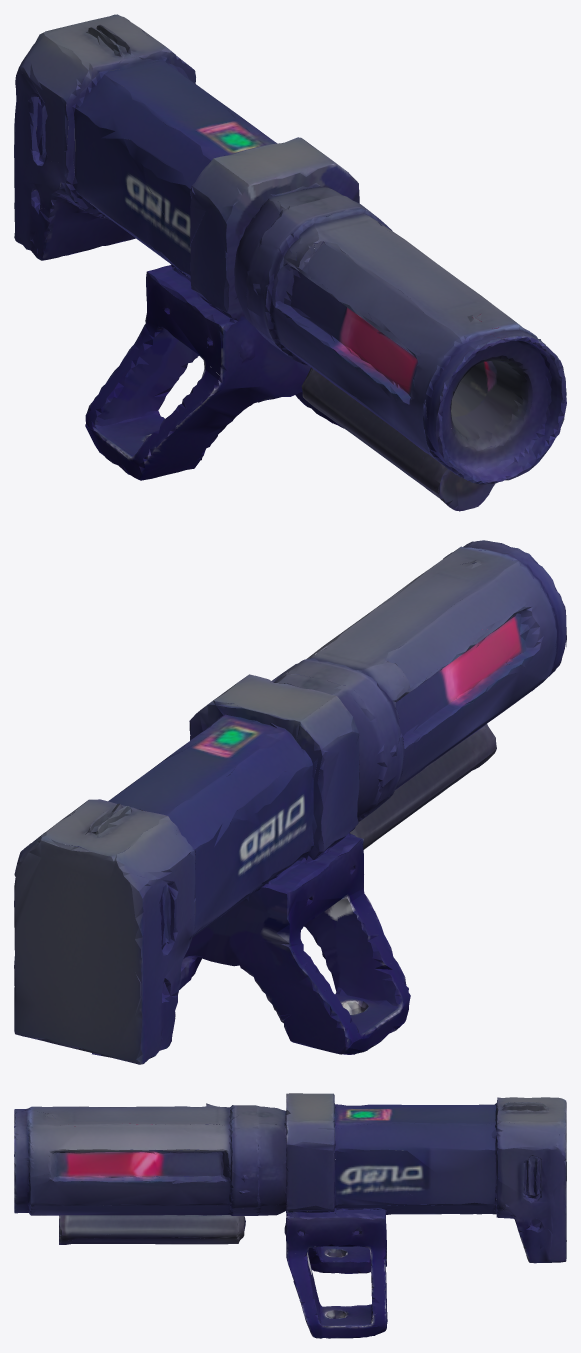
The model's file is gt3_gatling.glb.
3 views of the same model, one above another, from view 1: azimuth 30°, elevation 25°; view 2: azimuth 150°, elevation 25°; view 3: azimuth 270°, elevation 25° (orthographic). The views are drawn at different scales.
Visible parts, largest first — view 1: Gatling_GT3_x; view 2: Gatling_GT3_x; view 3: Gatling_GT3_x.
Part boxes in pixels (<box>): Gatling_GT3_x: <box>14,14,566,511</box>; Gatling_GT3_x: <box>14,540,566,1064</box>; Gatling_GT3_x: <box>14,1093,566,1338</box>.
Size of the model in its own units: 0.2954 by 0.3077 by 0.8008.
Materials: 1 (1 with a texture image).
